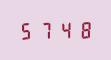eight: (72, 19, 89, 39)
five: (18, 20, 35, 40)
four: (54, 20, 71, 39)
seven: (36, 20, 53, 40)
